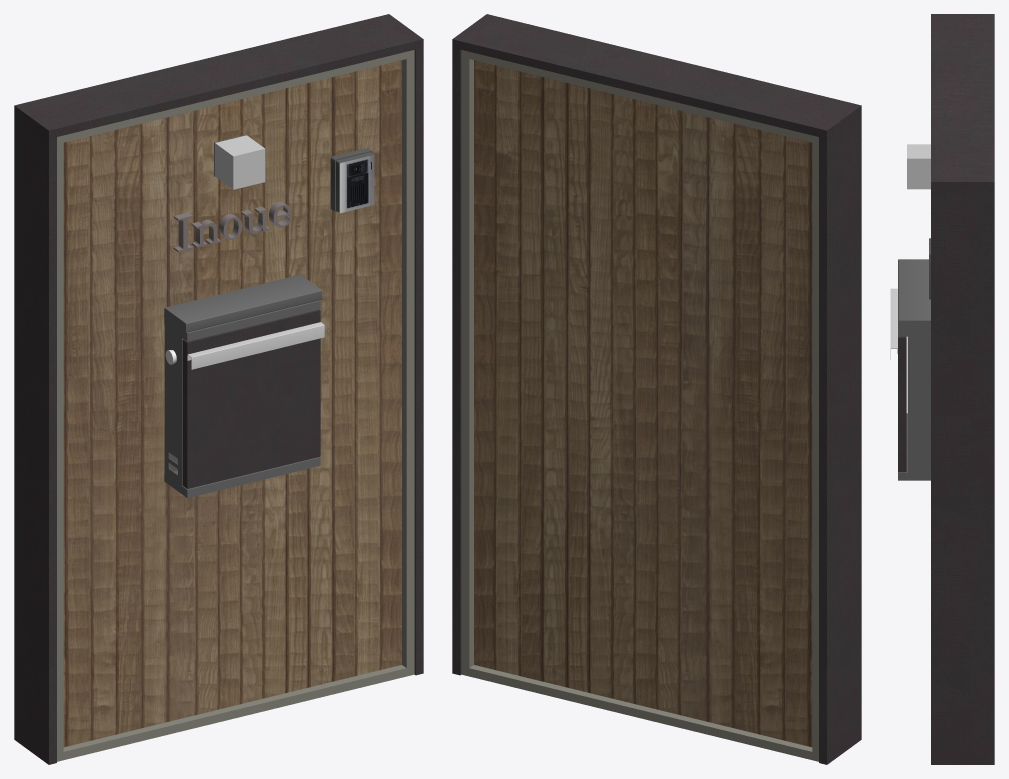
The model's file is eabmonchustyles1_naguri.fbx.
3 views of the same model, side by side, from view 1: azimuth 30°, elevation 25°; view 2: azimuth 150°, elevation 25°; view 3: azimuth 270°, elevation 25° (orthographic). The views are drawn at different scales.
Visible parts, largest first — view 1: eabmonchustyles1-naguri; view 2: eabmonchustyles1-naguri; view 3: eabmonchustyles1-naguri.
Boxes of the visible parts, x1=… form: eabmonchustyles1-naguri: x1=14, y1=14, x2=423, y2=764; eabmonchustyles1-naguri: x1=452, y1=14, x2=861, y2=764; eabmonchustyles1-naguri: x1=890, y1=14, x2=994, y2=764.
Bounding box in the file's own units: 94 × 152 × 24.61.
16 materials, 5 textured.
